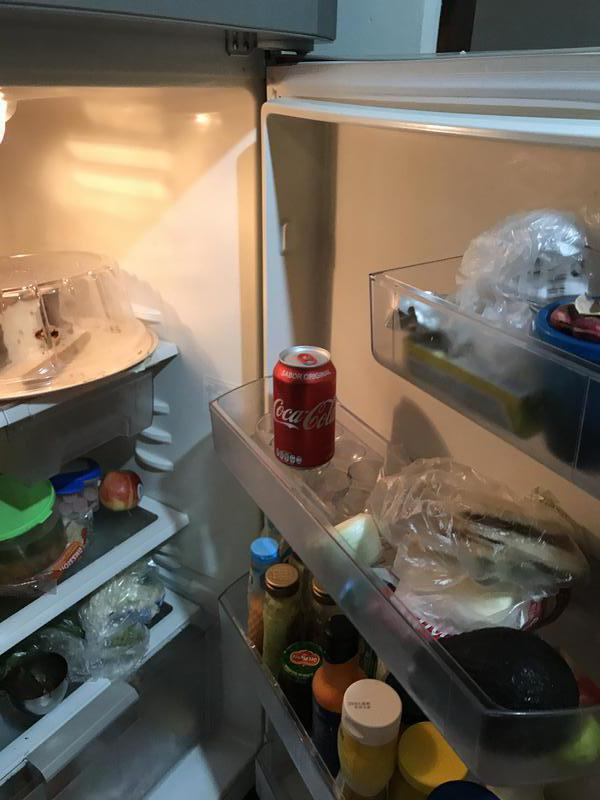coca_cola: (275, 348, 336, 469)
